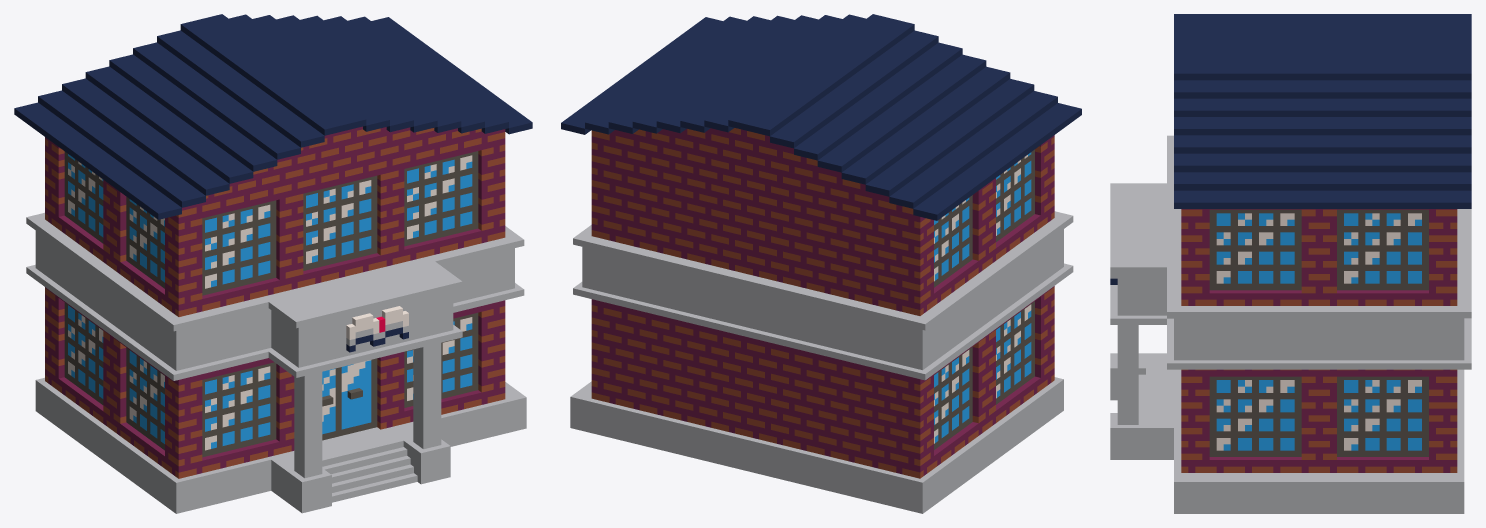
Rendered from library_a.obj.
3 renders of one model, left to right at view 1: azimuth 30°, elevation 25°; view 2: azimuth 150°, elevation 25°; view 3: azimuth 270°, elevation 25°, orthographic. The views are drawn at different scales.
Size of the model in its own units: 6.3 by 5.6 by 5.1.
1 material, 1 textured.
